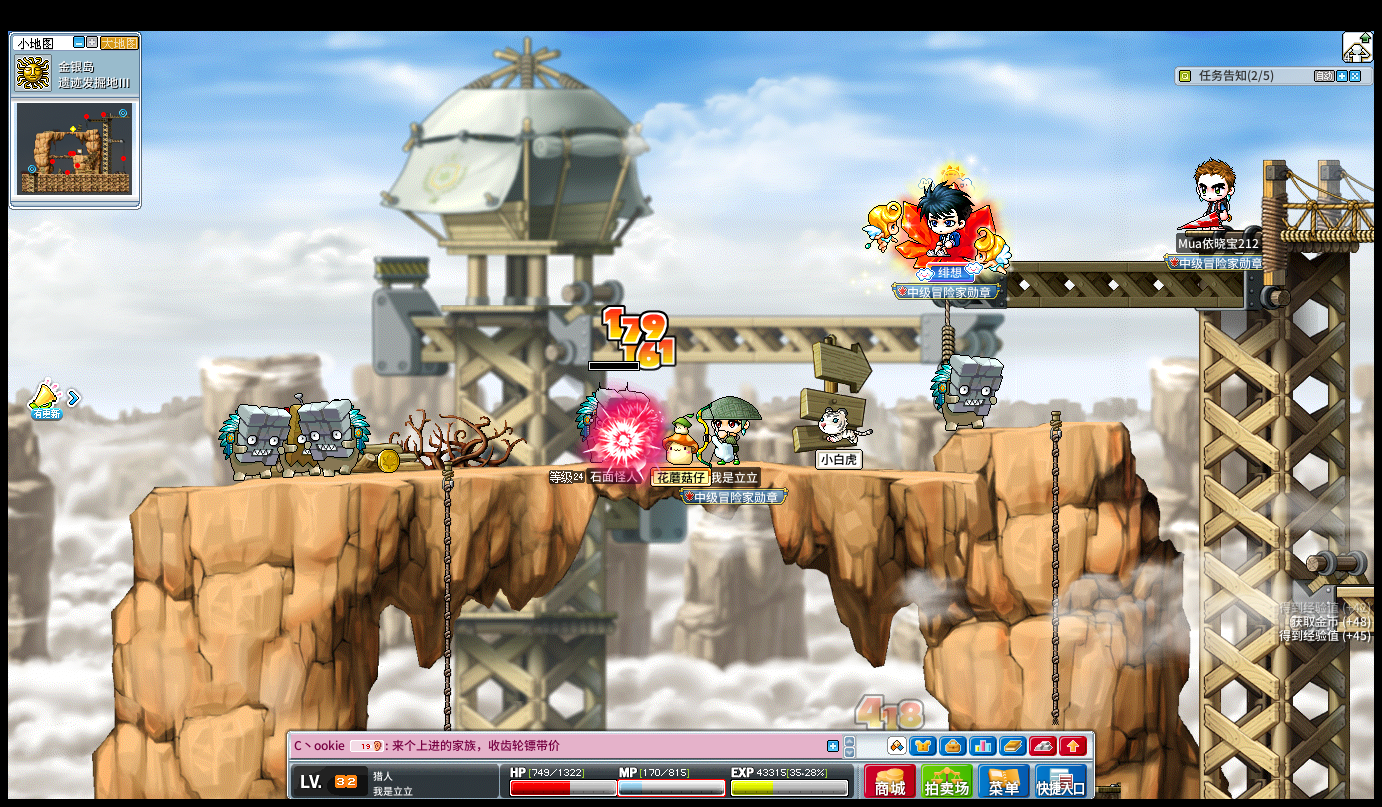floor: (156, 455, 1023, 483), (967, 417, 1128, 432), (966, 420, 1131, 434), (1334, 583, 1379, 595)
monster: (573, 382, 651, 463), (296, 398, 370, 477), (930, 354, 1004, 431), (217, 404, 290, 482)
rope: (1047, 404, 1062, 719), (440, 458, 453, 790), (440, 459, 453, 681), (1047, 615, 1061, 718)
